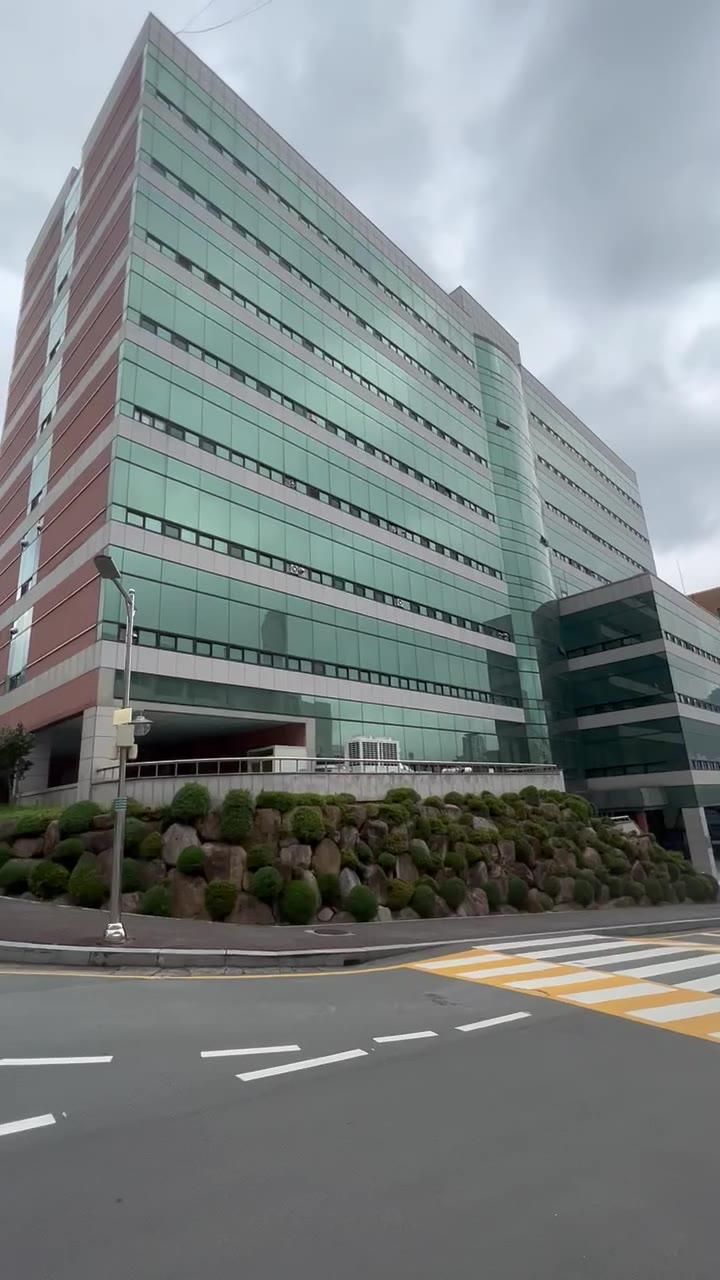building: (6, 50, 560, 778)
